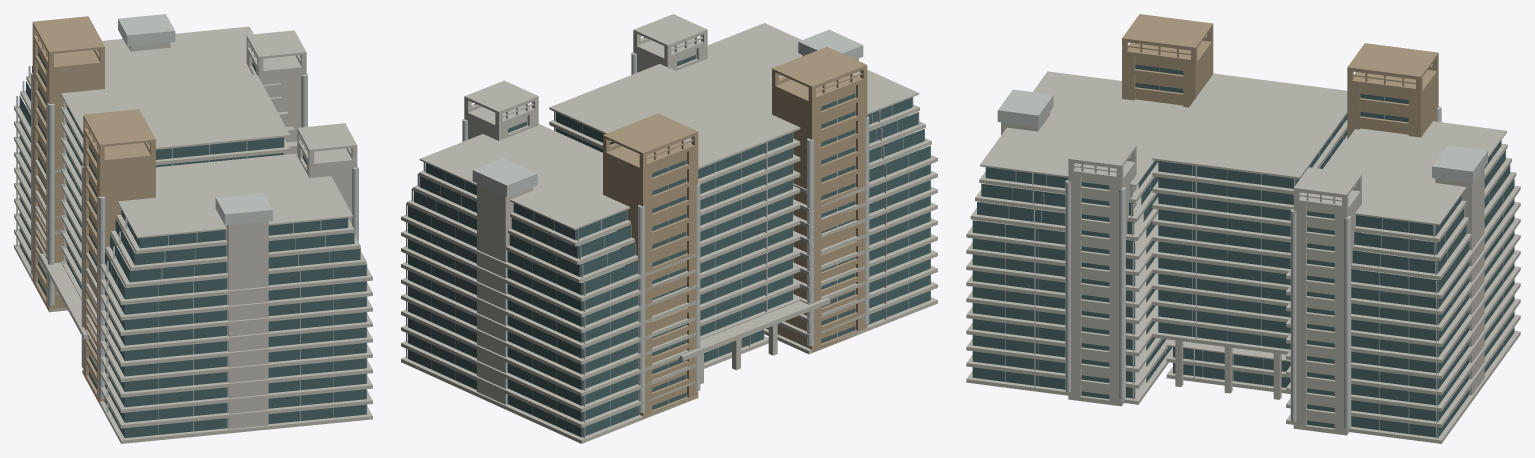
The model's file is edificio-inteligente-epm-far.glb.
3 renders of one model, left to right at view 1: azimuth 30°, elevation 25°; view 2: azimuth 150°, elevation 25°; view 3: azimuth 270°, elevation 25°, orthographic. The views are drawn at different scales.
Parts seen in each view (by area): view 1: edificio-inteligente-epm-0-concrete, edificio-inteligente-epm-0-glass, edificio-inteligente-epm-0-core, edificio-inteligente-epm-0-aluminium; view 2: edificio-inteligente-epm-0-concrete, edificio-inteligente-epm-0-glass, edificio-inteligente-epm-0-core, edificio-inteligente-epm-0-aluminium; view 3: edificio-inteligente-epm-0-concrete, edificio-inteligente-epm-0-glass, edificio-inteligente-epm-0-core, edificio-inteligente-epm-0-aluminium.
Boxes of the visible parts, <box> form: edificio-inteligente-epm-0-concrete: <box>14,26,372,443</box>; edificio-inteligente-epm-0-glass: <box>19,51,366,438</box>; edificio-inteligente-epm-0-core: <box>32,16,155,404</box>; edificio-inteligente-epm-0-aluminium: <box>16,14,367,434</box>; edificio-inteligente-epm-0-concrete: <box>401,14,937,443</box>; edificio-inteligente-epm-0-glass: <box>408,55,930,437</box>; edificio-inteligente-epm-0-core: <box>603,47,867,418</box>; edificio-inteligente-epm-0-aluminium: <box>406,29,930,438</box>; edificio-inteligente-epm-0-concrete: <box>966,71,1520,443</box>; edificio-inteligente-epm-0-glass: <box>972,64,1514,437</box>; edificio-inteligente-epm-0-core: <box>1122,14,1438,139</box>; edificio-inteligente-epm-0-aluminium: <box>997,68,1514,439</box>.
Size of the model in its own units: 94.16 by 70 by 129.
